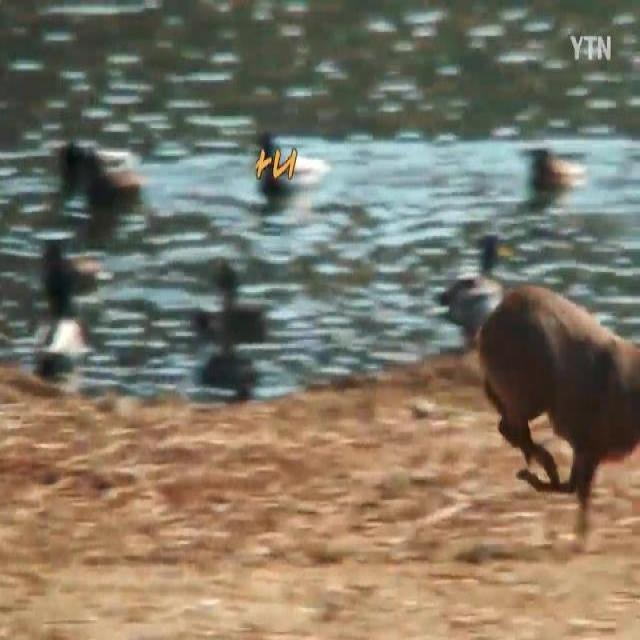deer: (478, 281, 640, 510)
